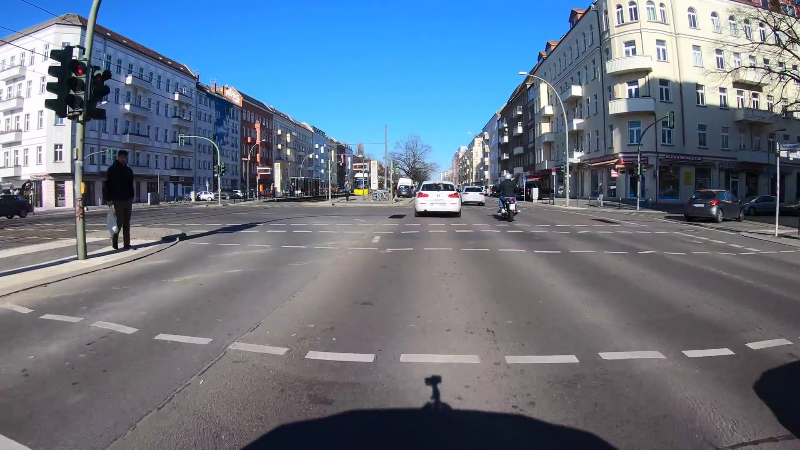Plate: (429, 201, 446, 208), (692, 201, 705, 209)
